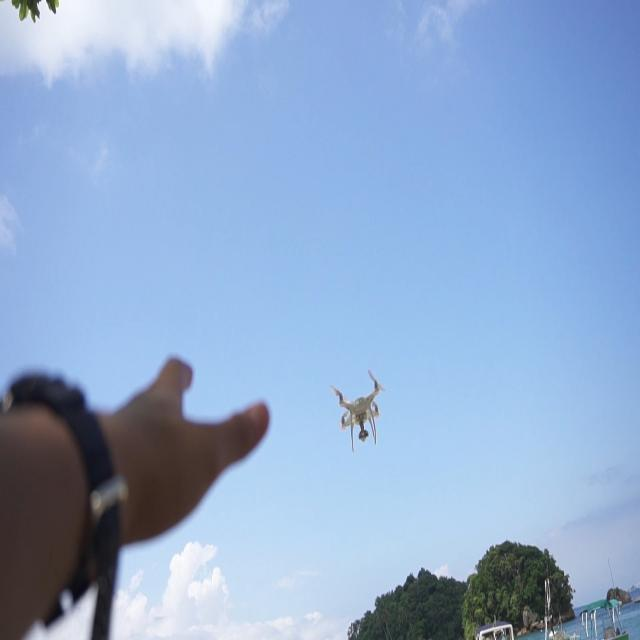Drone: (327, 382, 392, 462)
